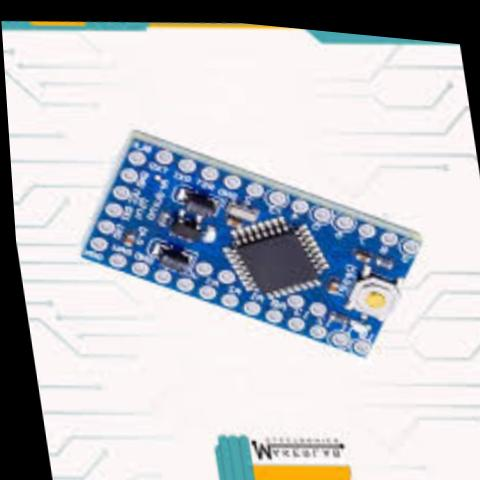Arduino-Pro-Mini: (41, 80, 464, 401)
